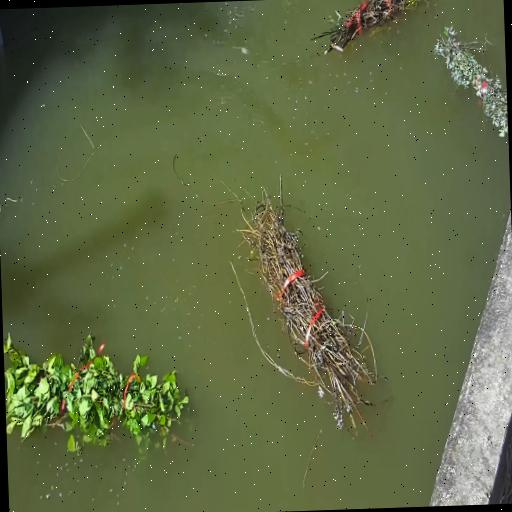twig: (238, 185, 376, 429), (3, 333, 188, 444), (433, 25, 508, 137), (311, 0, 418, 54)
